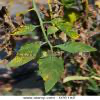Tomato Septoria leaf spot: (36, 52, 67, 94), (4, 40, 42, 69), (49, 16, 83, 39), (56, 40, 99, 55), (9, 23, 41, 37)
